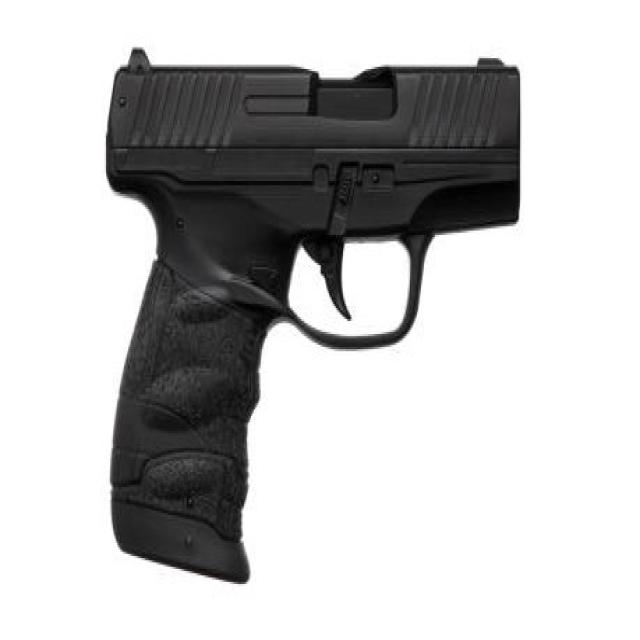pistol: (95, 40, 528, 588)
